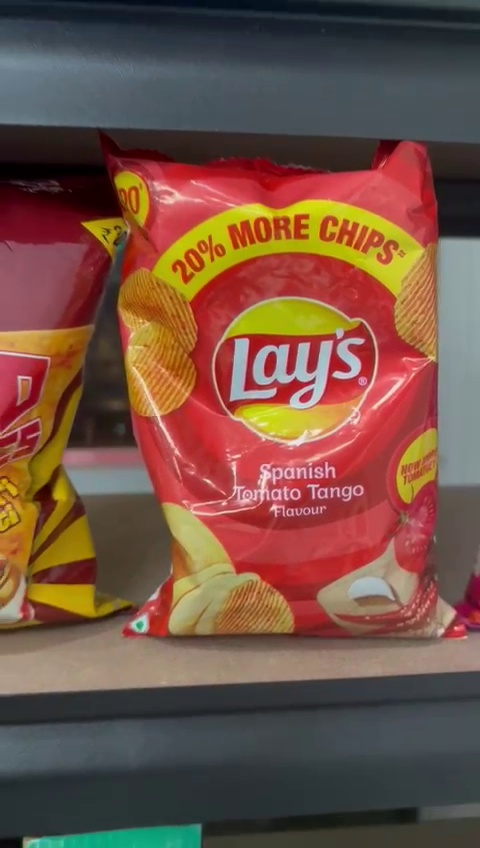Lays: (113, 149, 451, 638)
